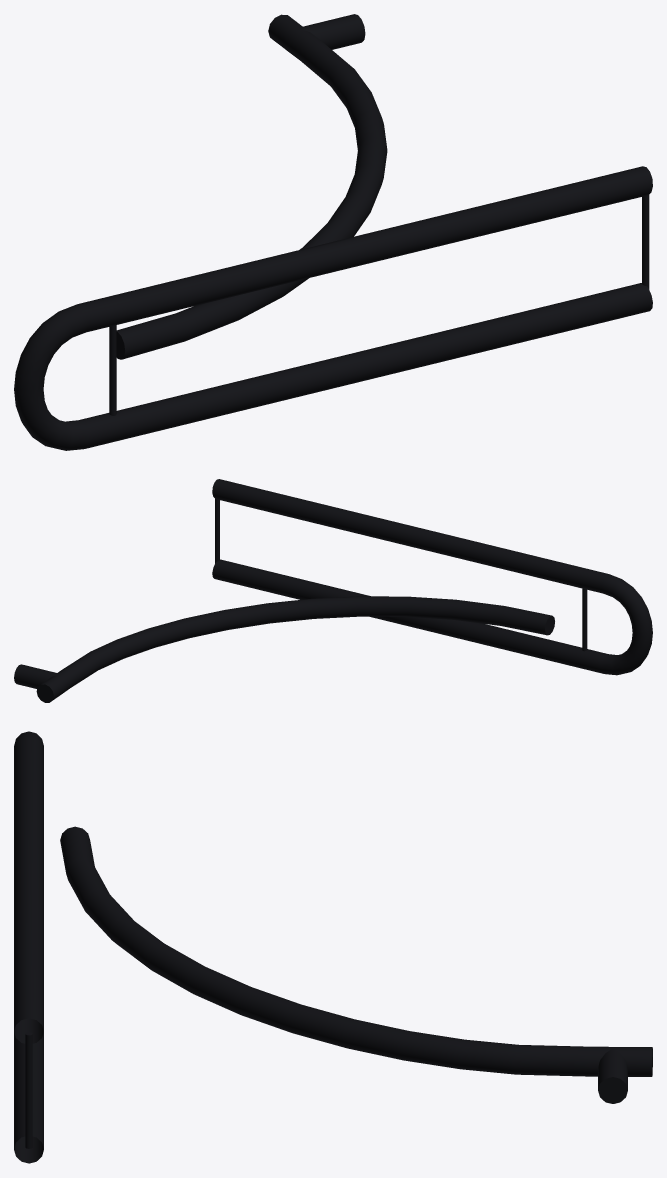
The model's file is Urbi_3_x1250_y-1230_ad_h8000.obj.
3 views of the same model, one above another, from view 1: azimuth 30°, elevation 25°; view 2: azimuth 150°, elevation 25°; view 3: azimuth 270°, elevation 25° (orthographic). The views are drawn at different scales.
Parts seen in each view (by area): view 1: Querträger_doppelt, Bogenausleger, Querstreben; view 2: Querträger_doppelt, Bogenausleger, Querstreben; view 3: Bogenausleger, Querträger_doppelt, Querstreben.
Part boxes in pixels (x1,y1,x2,y2): Querträger_doppelt: [14, 166, 652, 450]; Bogenausleger: [116, 14, 387, 359]; Querstreben: [109, 195, 649, 415]; Querträger_doppelt: [212, 479, 652, 675]; Bogenausleger: [14, 596, 554, 702]; Querstreben: [215, 499, 587, 651]; Bogenausleger: [60, 826, 652, 1103]; Querträger_doppelt: [14, 731, 43, 1163]; Querstreben: [25, 1032, 32, 1148].
Bounding box in the file's own units: 1.48 × 0.3199 × 1.28.
1 material, 1 textured.
